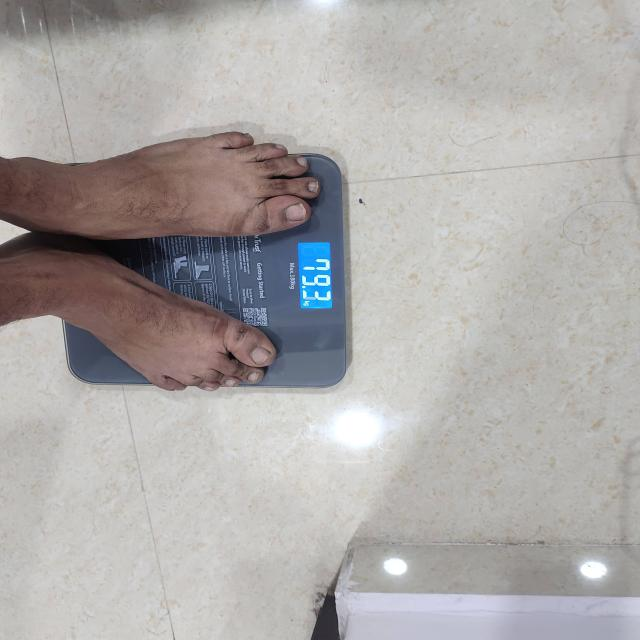ws: (120, 152, 352, 392)
